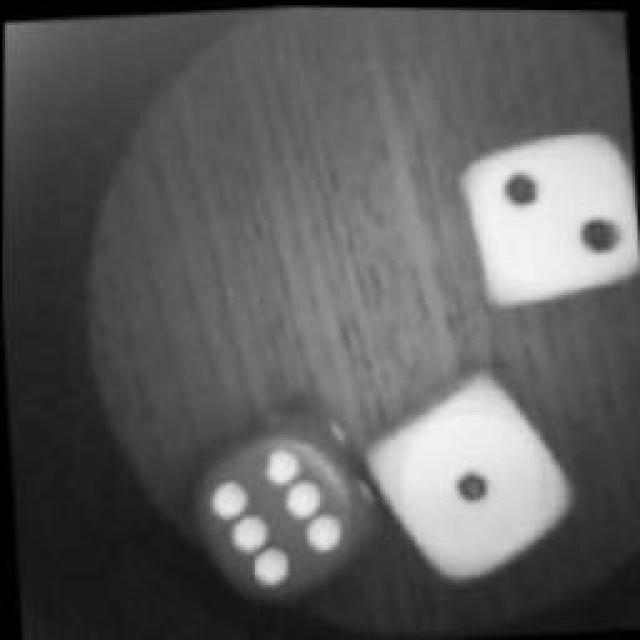dice_1: (362, 360, 586, 582)
dice_2: (445, 114, 640, 311)
dice_6: (179, 396, 386, 619)
